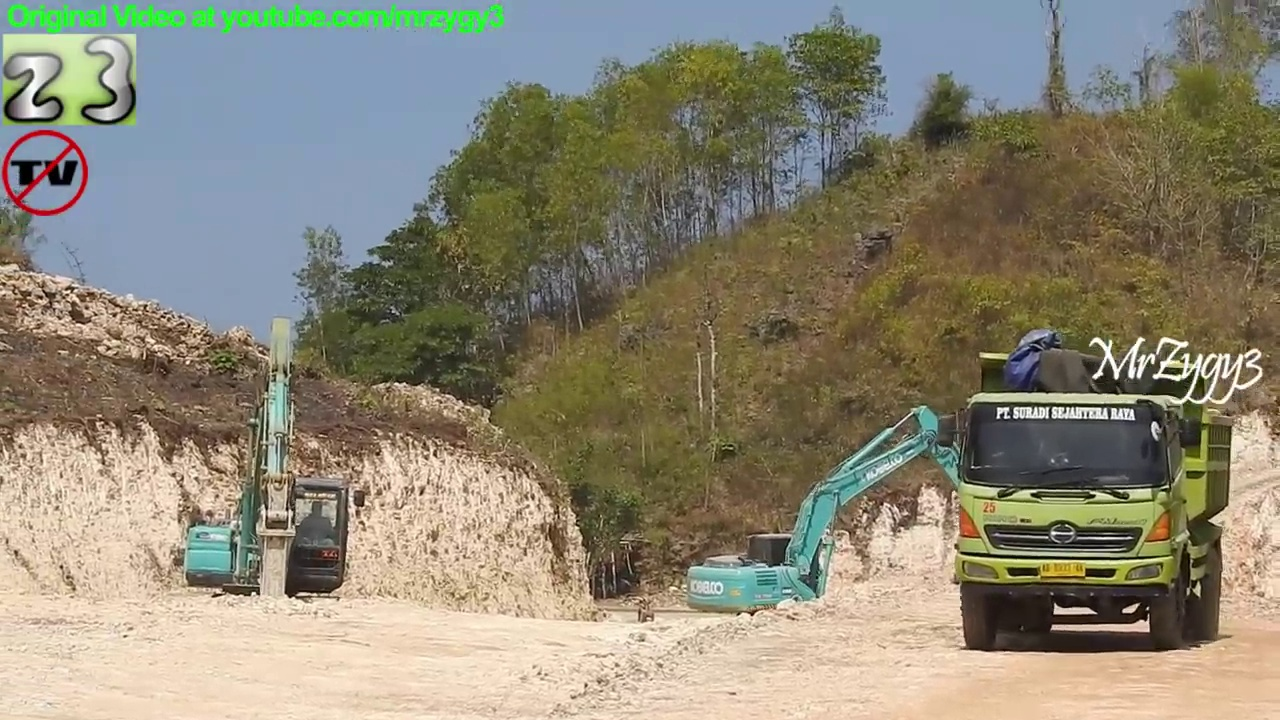excavator: (681, 400, 1058, 647), (178, 313, 371, 647)
truck: (931, 345, 1241, 655)
